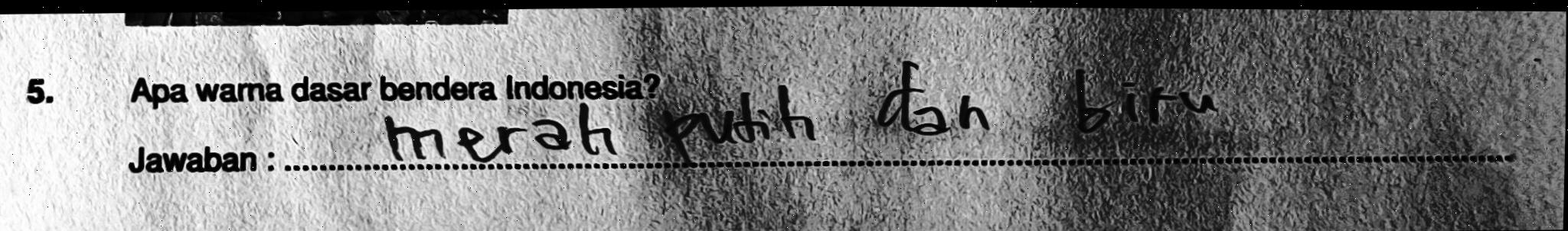jawaban: (383, 101, 619, 164), (656, 79, 822, 167), (1070, 61, 1221, 138), (874, 59, 1006, 138)
